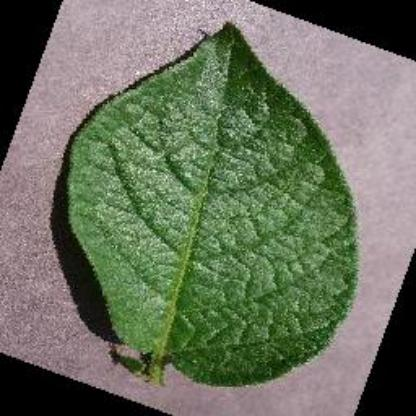Healthy-plant: (54, 23, 366, 401)
